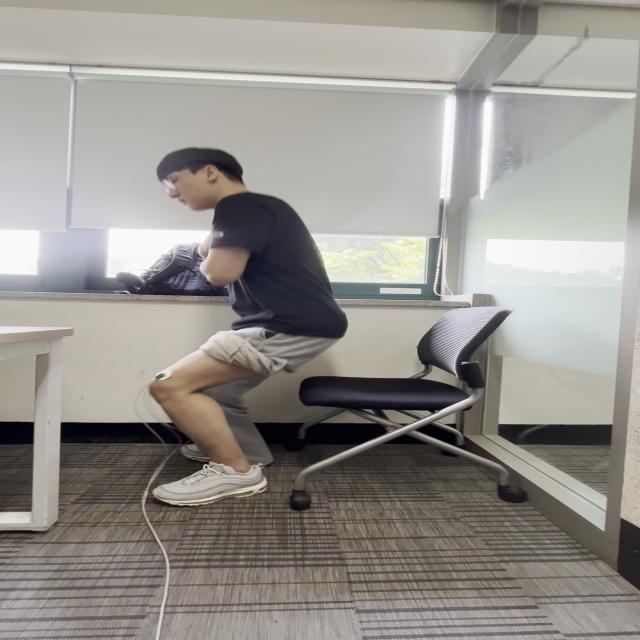stand: (180, 206, 350, 452), (144, 330, 334, 509)
